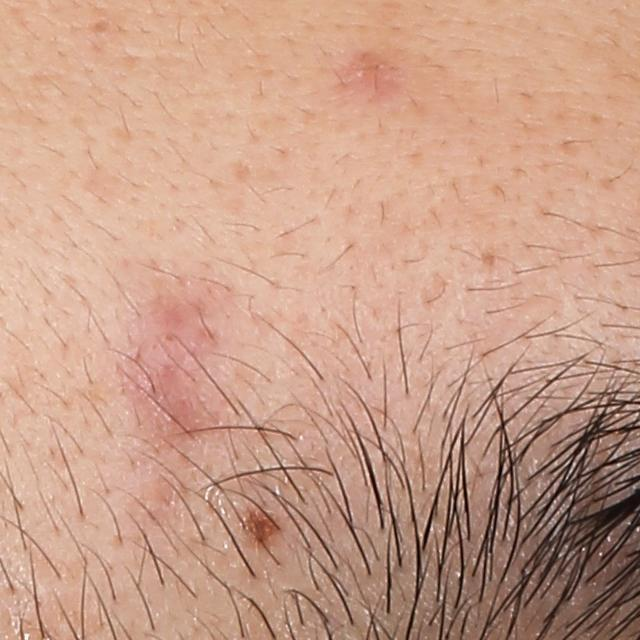comedo: (91, 15, 118, 40)
nevus: (234, 502, 287, 556)
